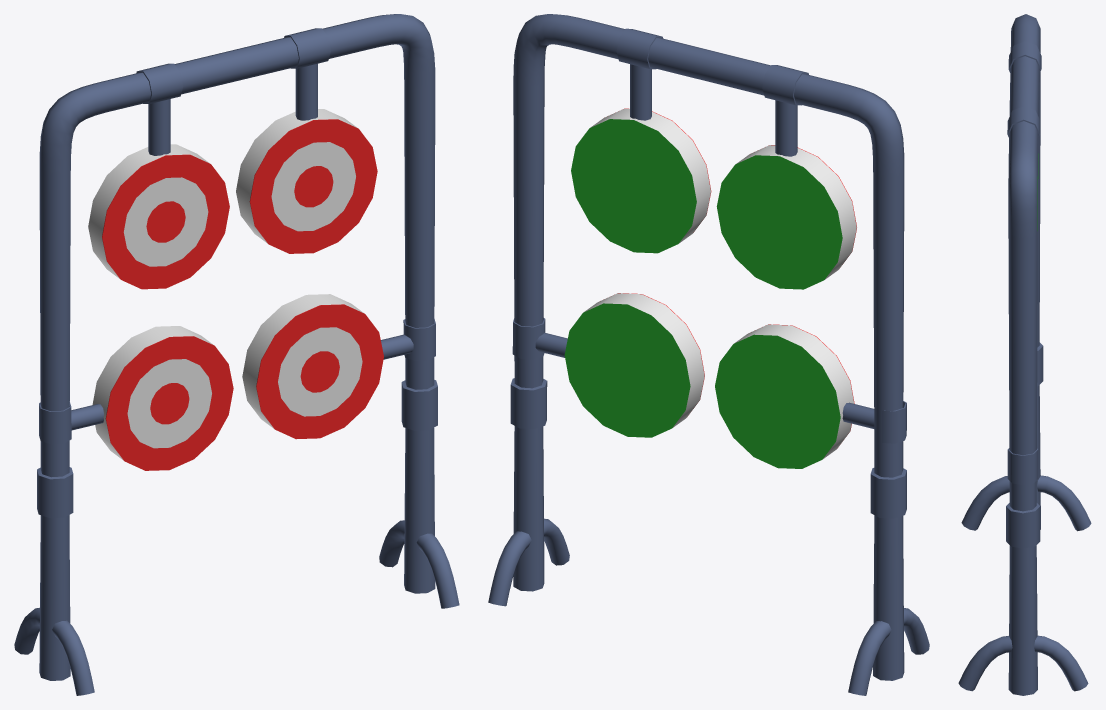
File: Aim1.fbx
3 views of the same model, side by side, from view 1: azimuth 30°, elevation 25°; view 2: azimuth 150°, elevation 25°; view 3: azimuth 270°, elevation 25° (orthographic). The views are drawn at different scales.
Parts seen in each view (by area): view 1: NurbsPath.003, NurbsPath.006, NurbsPath.005, NurbsPath.007, NurbsPath.008; view 2: NurbsPath.003, NurbsPath.005, NurbsPath.006, NurbsPath.008, NurbsPath.007; view 3: NurbsPath.003, NurbsPath.008, NurbsPath.005, NurbsPath.006.
Part boxes in pixels (bbox=[...]): NurbsPath.003: bbox=[14, 14, 459, 695]; NurbsPath.006: bbox=[236, 28, 377, 253]; NurbsPath.005: bbox=[88, 63, 229, 289]; NurbsPath.007: bbox=[39, 326, 233, 470]; NurbsPath.008: bbox=[242, 294, 435, 439]; NurbsPath.003: bbox=[488, 14, 929, 695]; NurbsPath.005: bbox=[716, 65, 856, 289]; NurbsPath.006: bbox=[571, 28, 711, 253]; NurbsPath.008: bbox=[512, 293, 704, 437]; NurbsPath.007: bbox=[715, 324, 906, 468]; NurbsPath.003: bbox=[958, 14, 1091, 695]; NurbsPath.008: bbox=[1007, 448, 1038, 485]; NurbsPath.005: bbox=[1008, 41, 1041, 230]; NurbsPath.006: bbox=[1007, 106, 1040, 138].
Size of the model in its own units: 17.05 by 23.98 by 5.49.
